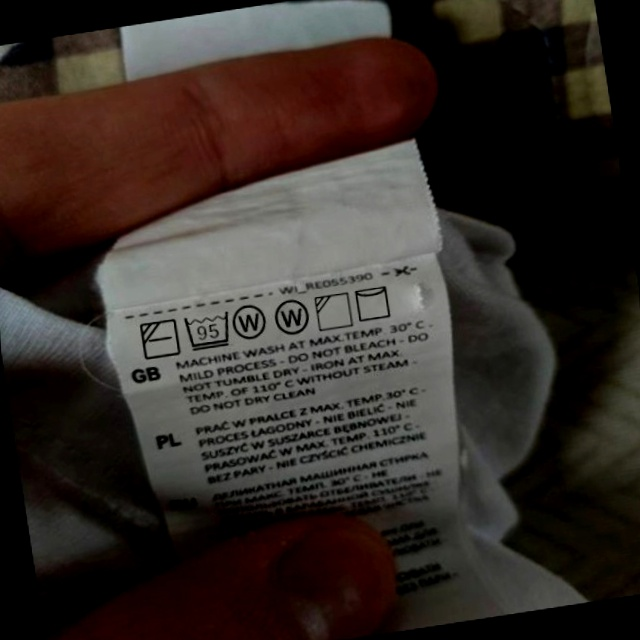95C: (181, 308, 235, 353)
dry_flat_in_shade: (137, 315, 182, 363)
line_dry: (351, 281, 396, 325)
shade_dry: (312, 289, 356, 334)
wet_clean: (271, 295, 313, 340), (230, 298, 271, 343)
